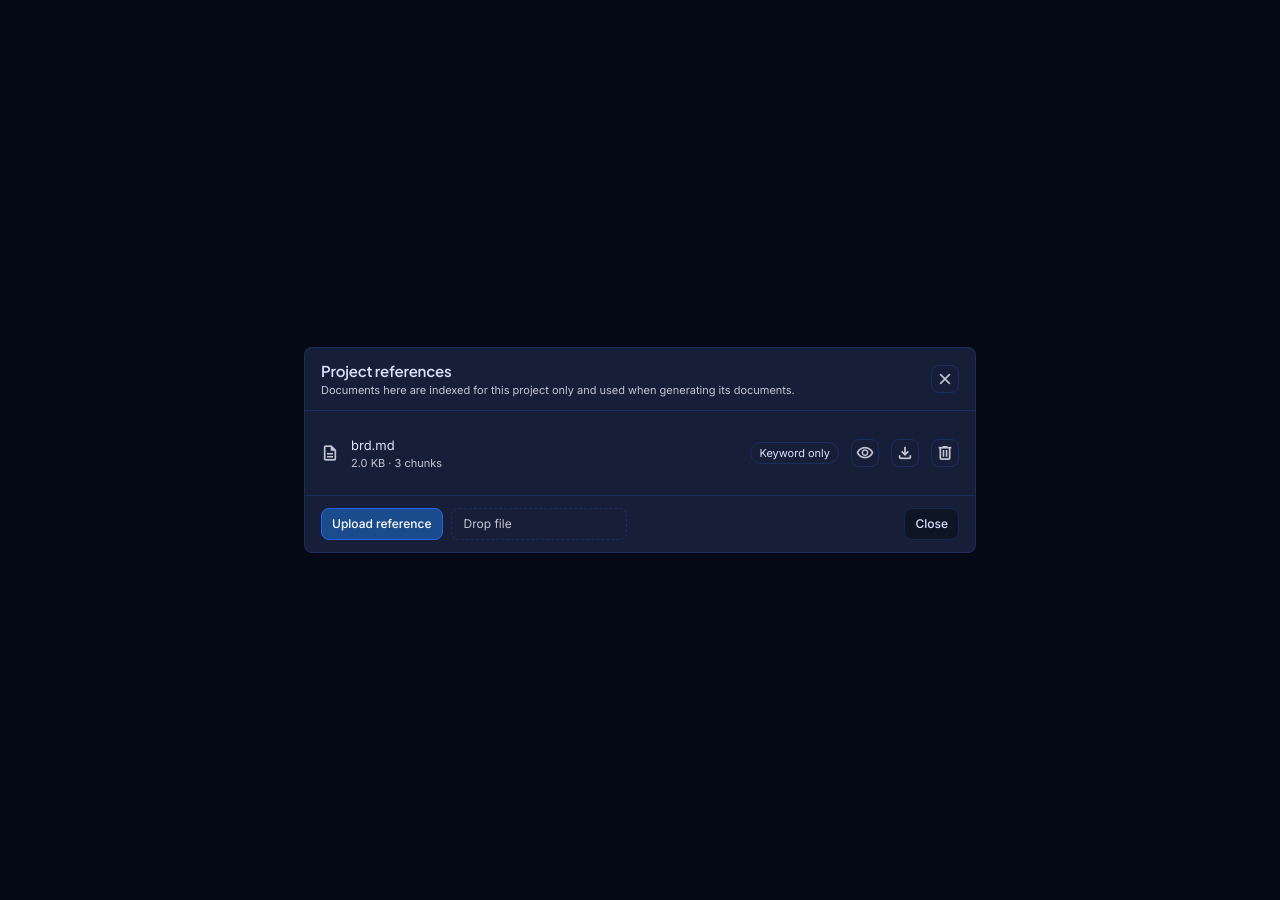
Test: preview opens markdown content from the inline download URL
Click the button named "Preview brd.md": point(865, 453) [851,439,879,467]
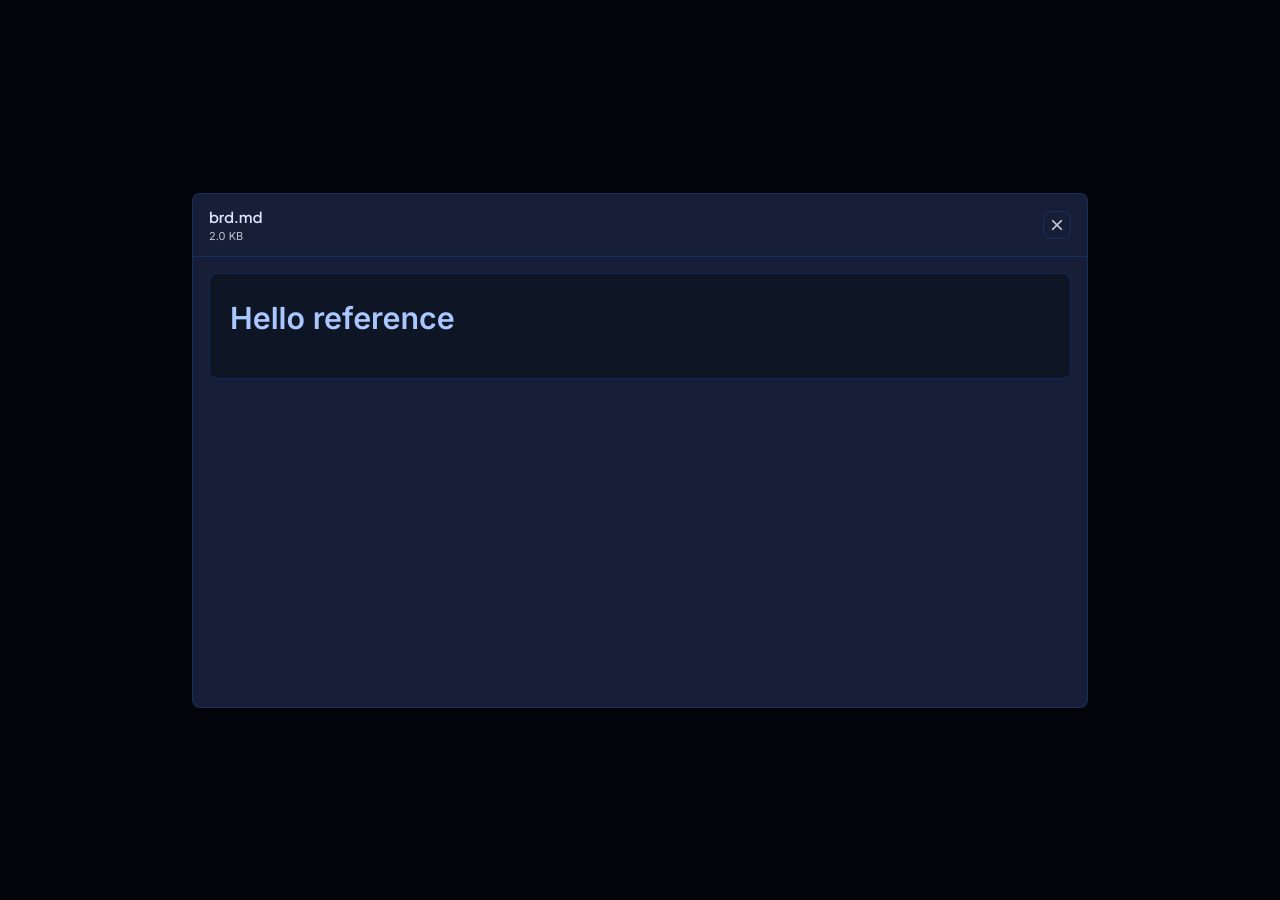
Expected: the element named "Rendered markdown" is shown, [209,272,1071,379]
Expected: the heading "Hello reference" is shown, [230,300,455,336]
